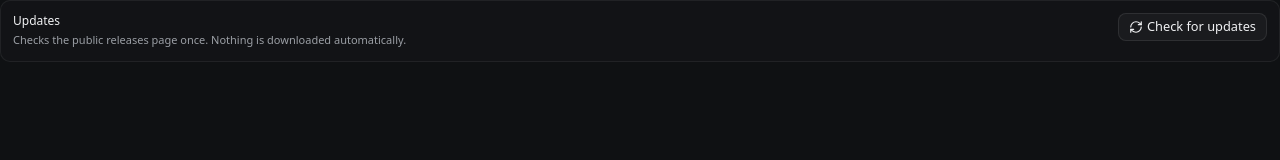
Test: UpdateCheck › reports when the running version is current
Click the button "Check for updates": x=1192, y=27 [1118,13,1267,41]
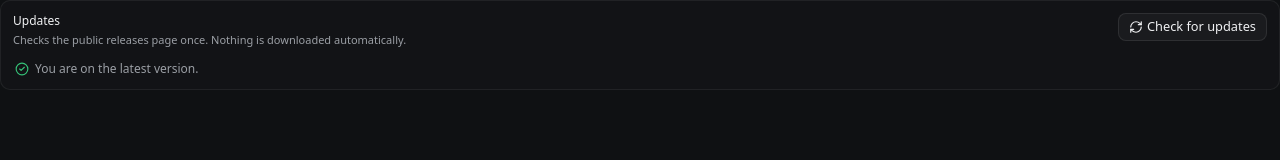
Now the text "You are on the latest version." is shown, box [15,60,198,77]
